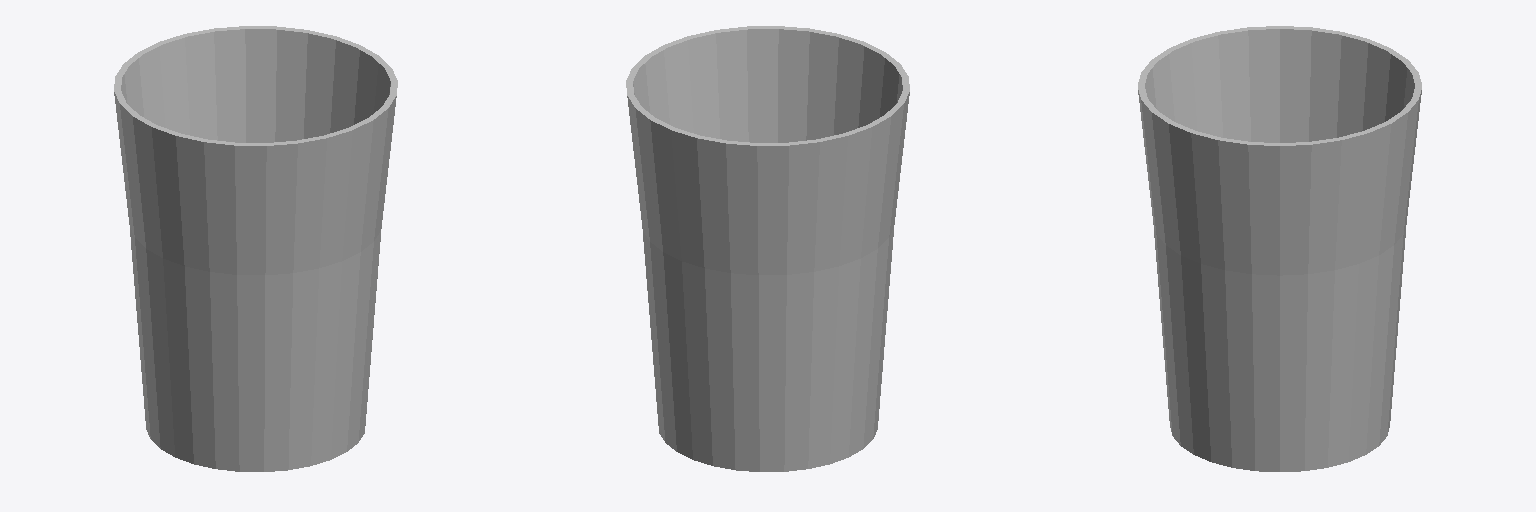
The model's file is WaterGlass.obj.
3 renders of one model, left to right at view 1: azimuth 30°, elevation 25°; view 2: azimuth 150°, elevation 25°; view 3: azimuth 270°, elevation 25°, orthographic.
Parts seen in each view (by area): view 1: Bicchiere_GLASS__outline_top, Bicchiere_bordo_GLASS__edge; view 2: Bicchiere_GLASS__outline_top, Bicchiere_bordo_GLASS__edge; view 3: Bicchiere_GLASS__outline_top, Bicchiere_bordo_GLASS__edge.
Boxes of the visible parts, x1,y1,x2,y2 form: Bicchiere_GLASS__outline_top: [114, 29, 396, 471]; Bicchiere_bordo_GLASS__edge: [114, 26, 397, 145]; Bicchiere_GLASS__outline_top: [627, 29, 909, 471]; Bicchiere_bordo_GLASS__edge: [626, 26, 909, 145]; Bicchiere_GLASS__outline_top: [1138, 29, 1421, 471]; Bicchiere_bordo_GLASS__edge: [1138, 26, 1421, 145].
Size of the model in its own units: 2.36 by 3.1 by 2.36.